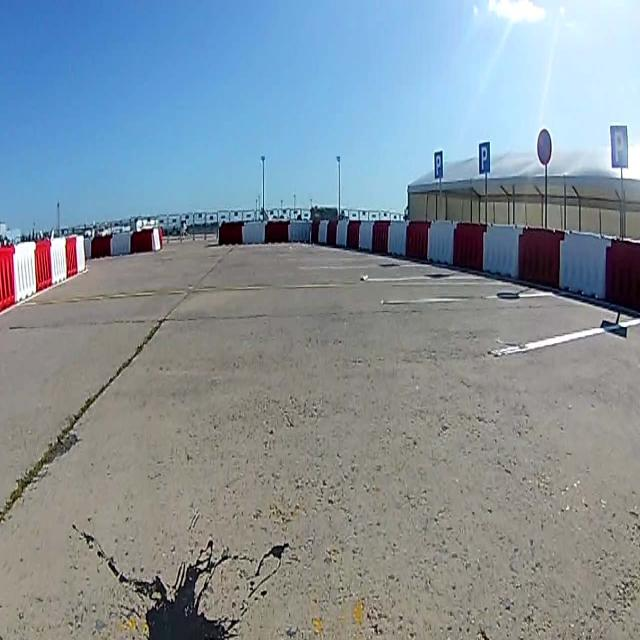park: (610, 124, 628, 168), (479, 142, 490, 174), (434, 150, 444, 179)
parkyasak: (537, 128, 553, 166)
